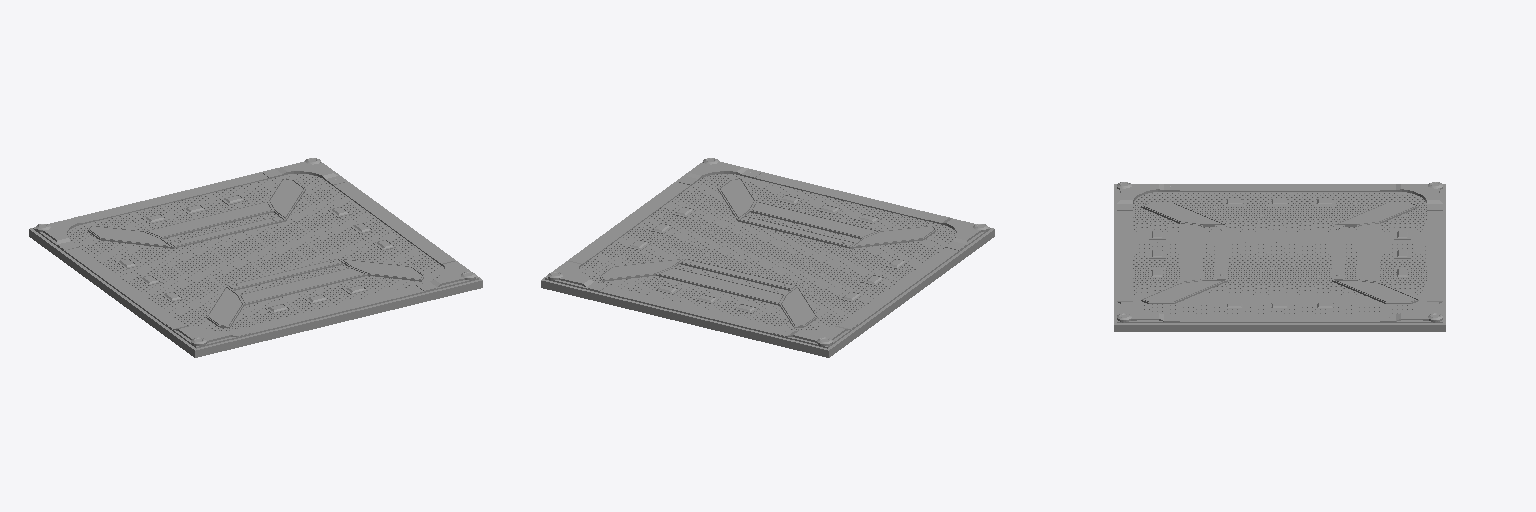
The model's file is Panel.obj.
3 views of the same model, side by side, from view 1: azimuth 30°, elevation 25°; view 2: azimuth 150°, elevation 25°; view 3: azimuth 270°, elevation 25° (orthographic).
Visible parts, largest first — view 1: hex_plane_Circle.001; view 2: hex_plane_Circle.001; view 3: hex_plane_Circle.001.
Part boxes in pixels (x1,y1,x2,y2): hex_plane_Circle.001: (29, 158, 482, 357); hex_plane_Circle.001: (541, 158, 994, 357); hex_plane_Circle.001: (1114, 182, 1445, 331).
Size of the model in its own units: 4 by 0.1611 by 4.